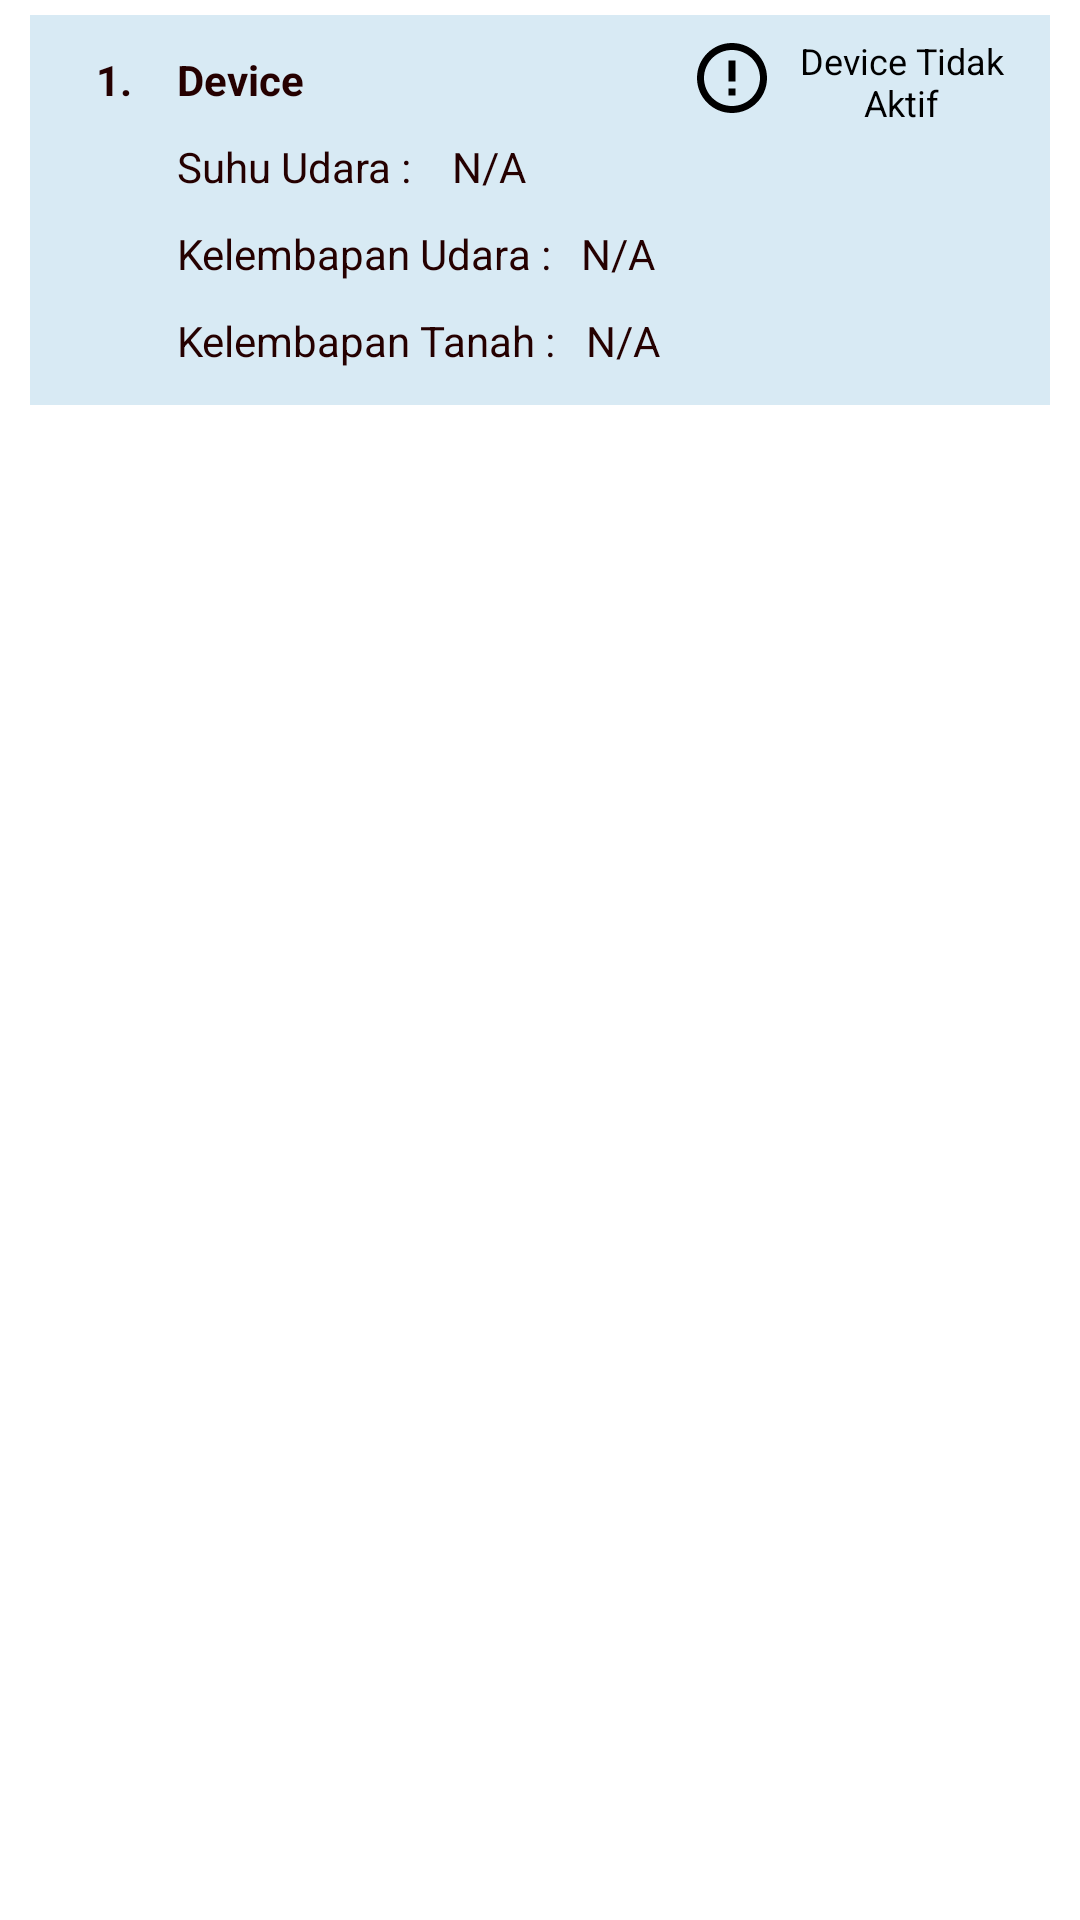

Named icons in this screenshot (1080*1920) and their centers, (x=x, y=y):
error: (x=732, y=78)
